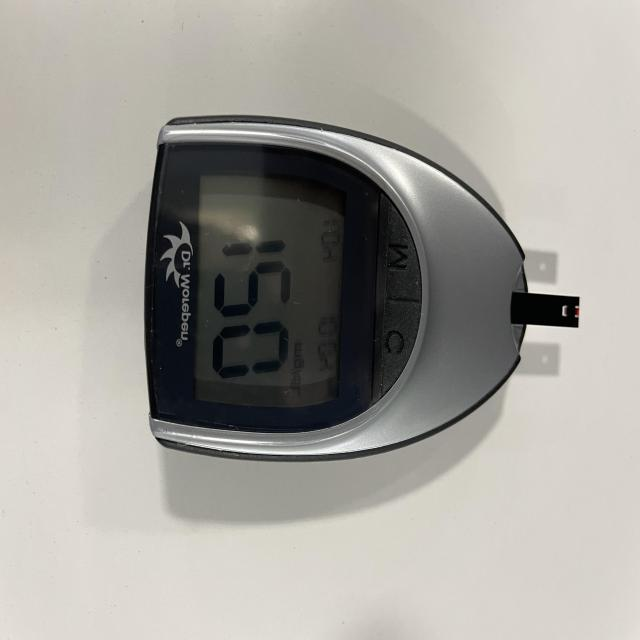gluco: (142, 116, 572, 465)
